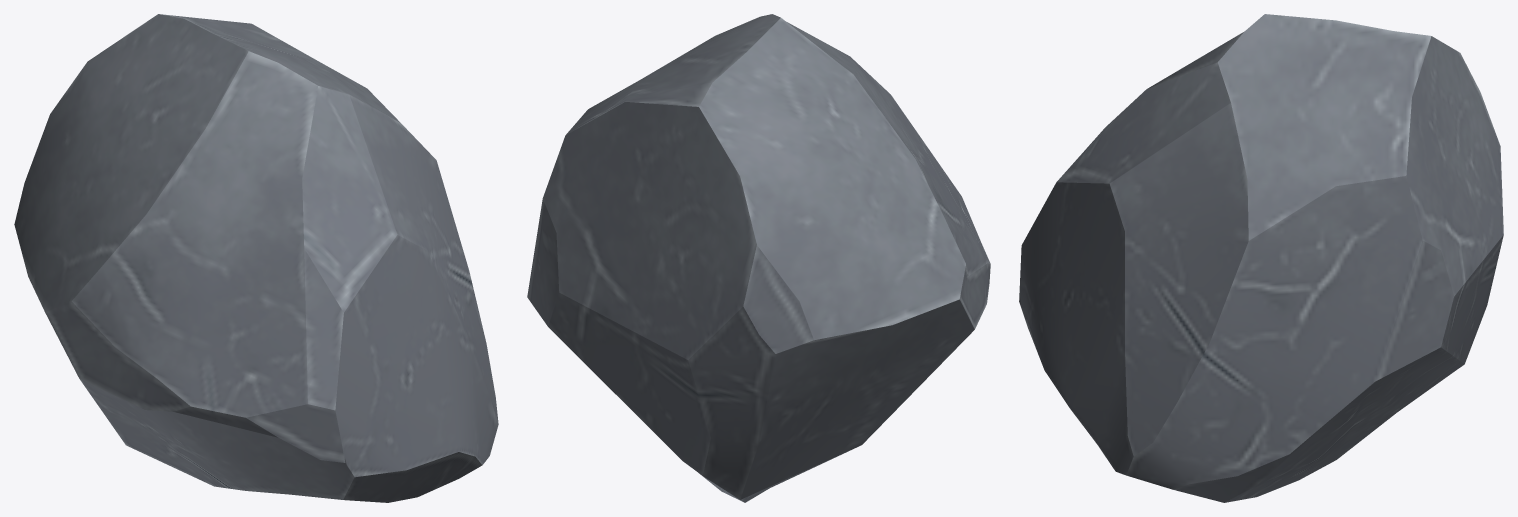
File: stylizedrock.fbx
The picture shows the model from 3 angles, left to right: view 1: azimuth 30°, elevation 25°; view 2: azimuth 150°, elevation 25°; view 3: azimuth 270°, elevation 25°; orthographic projection. The views are drawn at different scales.
Parts seen in each view (by area): view 1: lp; view 2: lp; view 3: lp.
Boxes of the visible parts, x1,y1,x2,y2 form: lp: (14, 14, 498, 502); lp: (527, 14, 990, 502); lp: (1019, 14, 1503, 502).
Bounding box in the file's own units: 1.14 × 1.25 × 1.25.
